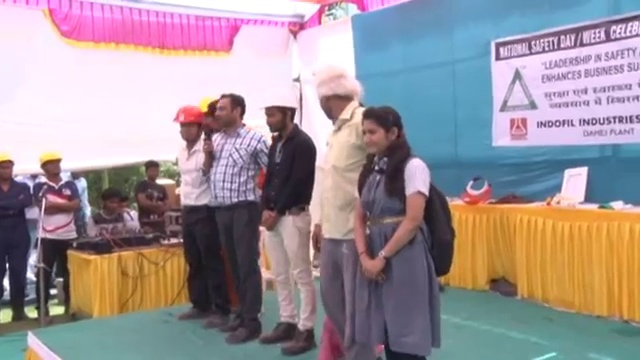helmet: (257, 90, 300, 113), (170, 104, 205, 127), (38, 153, 63, 169), (0, 154, 15, 166)
helmet_off: (309, 67, 362, 121), (358, 104, 406, 159), (214, 93, 246, 128), (121, 114, 147, 155), (101, 188, 124, 216), (142, 161, 160, 183)
helmet_on: (257, 90, 299, 133), (170, 104, 205, 145), (38, 152, 63, 183), (0, 154, 15, 183)
person: (350, 96, 455, 360), (306, 60, 371, 360), (205, 94, 272, 343), (257, 86, 319, 354), (169, 104, 228, 330), (32, 152, 81, 327), (0, 154, 32, 325), (86, 188, 140, 238), (134, 160, 169, 228)
